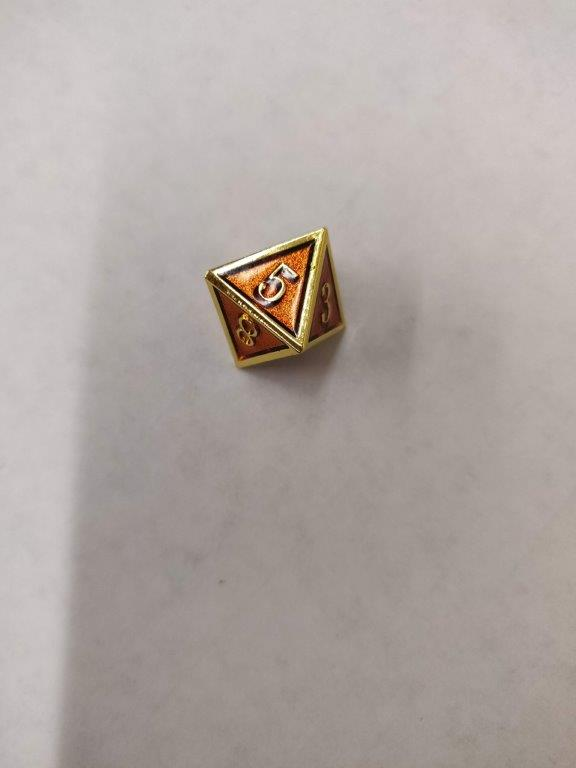d8-5: (205, 224, 346, 375)
